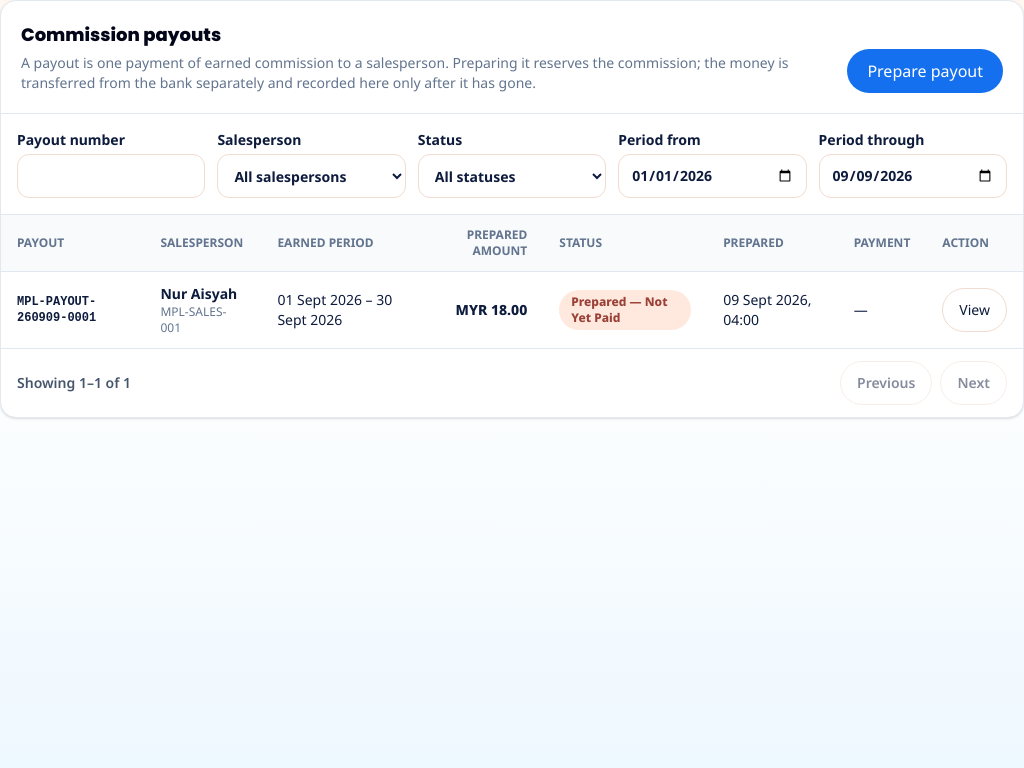
Least-privilege payout viewing › explains that preparing needs the salesperson list instead of offering an empty choice
The image size is (1024, 768).
Expected: the text "MPL-PAYOUT-260909-0001" is shown, [1,272,144,348]
Click the button "Prepare payout": (925, 71) [847,49,1003,93]
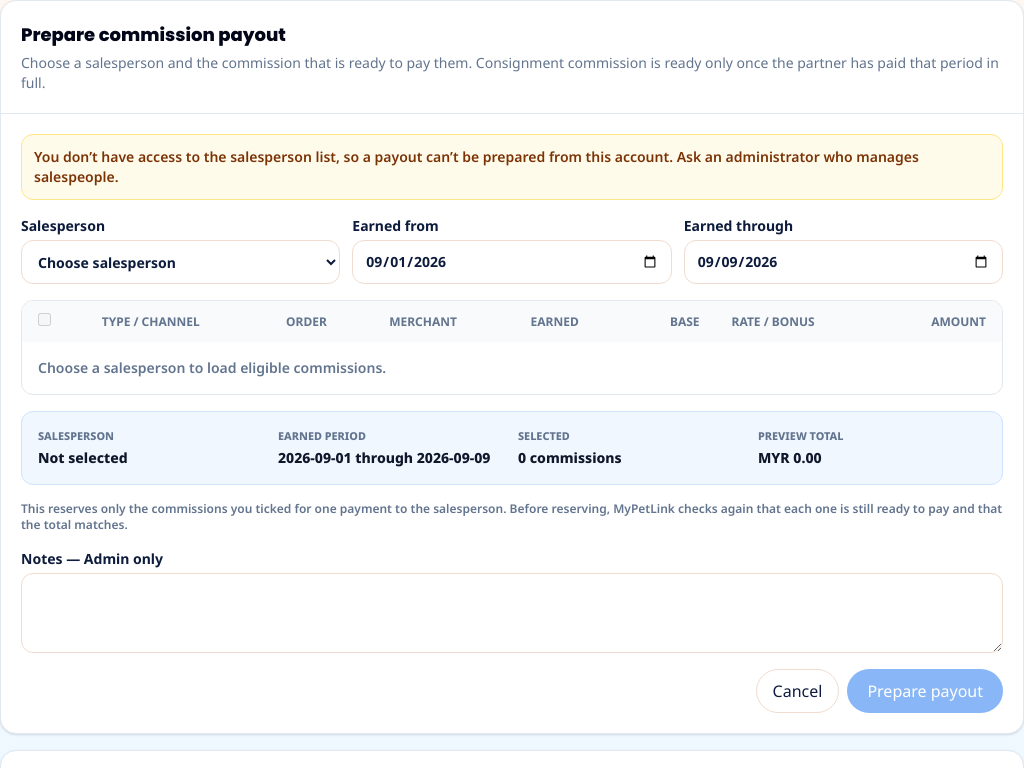
Expected: the text "don’t have access to the salesperson list" is shown, [34,147,919,186]
Expected: the button "Prepare payout" is disabled, [847,669,1003,713]
